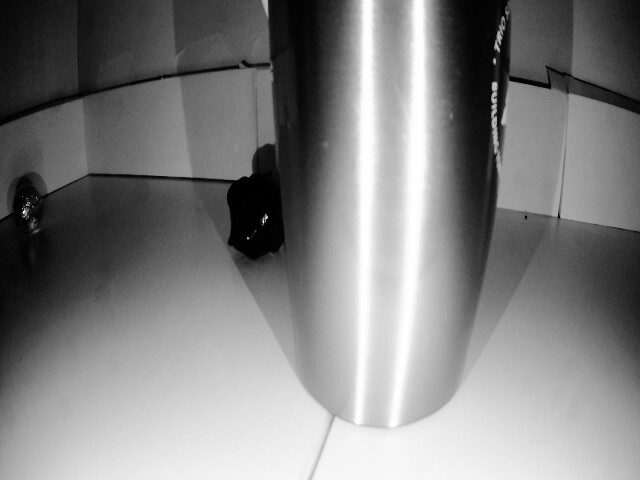black: (6, 186, 50, 235)
silver: (230, 174, 286, 260)
